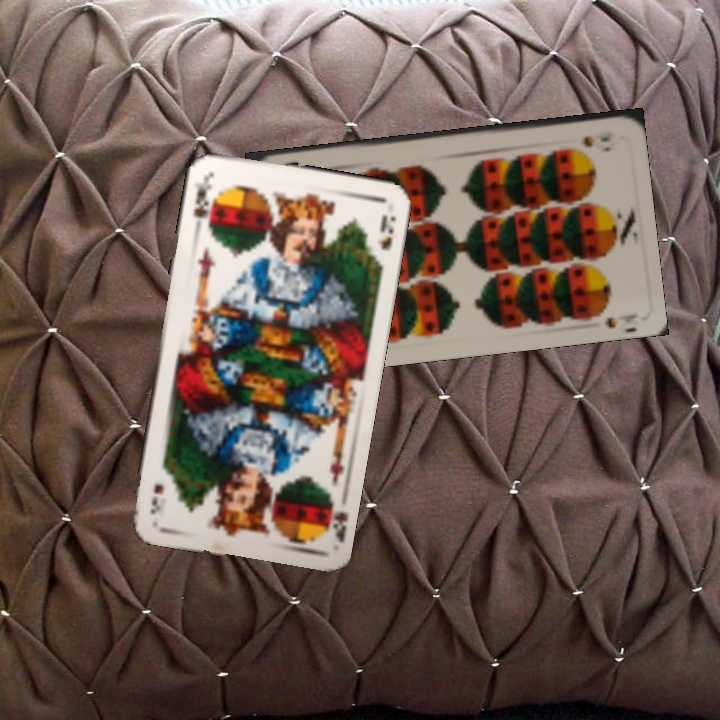S10: (577, 126, 617, 148)
SK: (189, 173, 217, 233), (320, 489, 350, 545)
